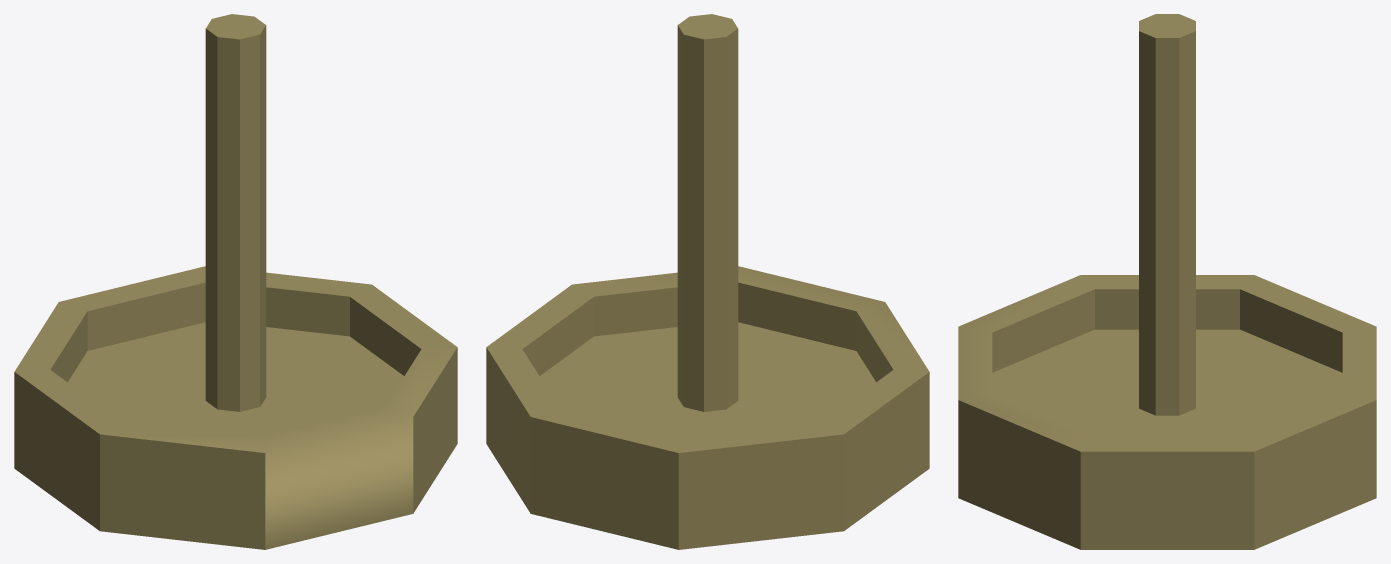
Rendered from Brunnen.fbx.
3 renders of one model, left to right at view 1: azimuth 30°, elevation 25°; view 2: azimuth 150°, elevation 25°; view 3: azimuth 270°, elevation 25°, orthographic.
Visible parts, largest first — view 1: Brunnen; view 2: Brunnen; view 3: Brunnen.
Boxes of the visible parts, x1,y1,x2,y2 form: Brunnen: (14,14,457,549); Brunnen: (486,14,929,549); Brunnen: (958,14,1376,549).
Bounding box in the file's own units: 3.86 × 4.43 × 3.86.
